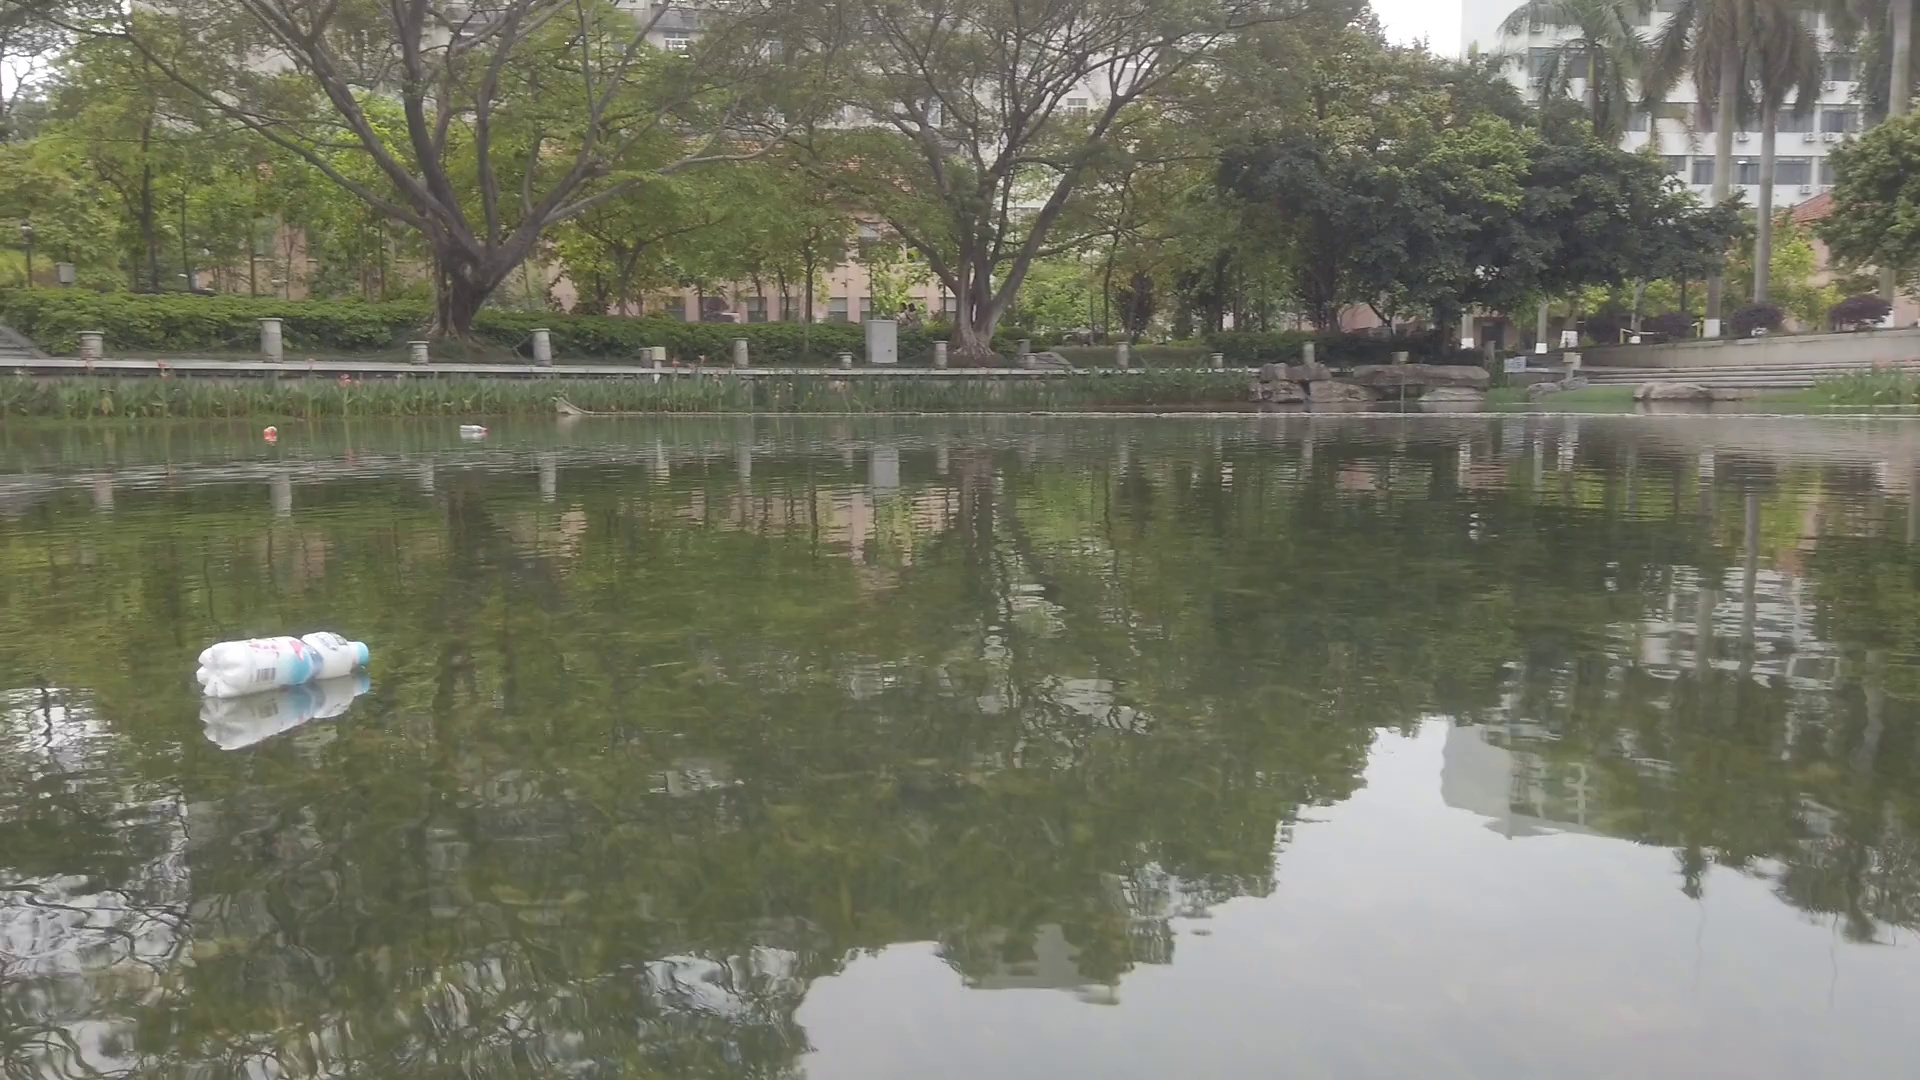bottle: (195, 632, 368, 688), (460, 423, 488, 433), (262, 425, 277, 439)
